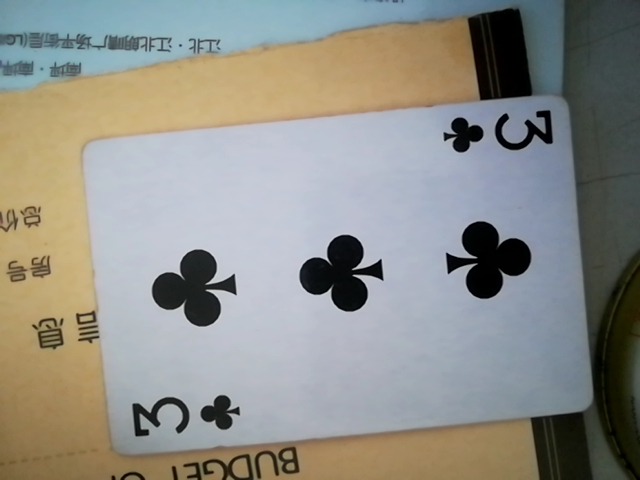mh 3: (76, 95, 588, 459)
